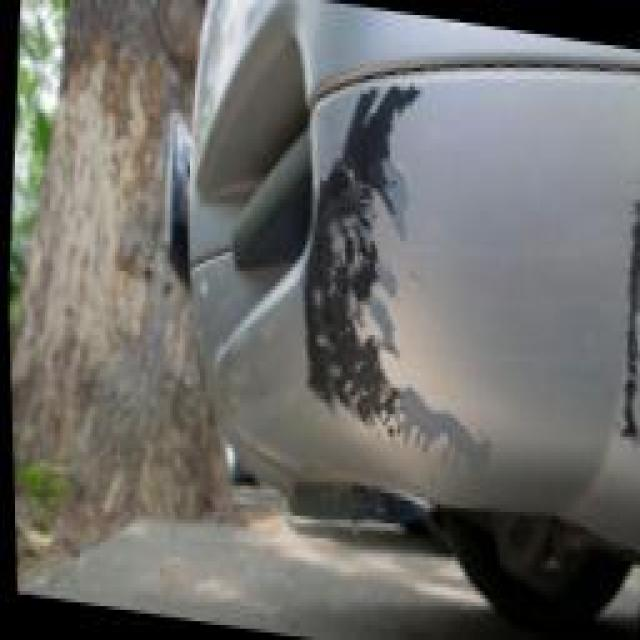Bumper: (268, 19, 640, 557)
